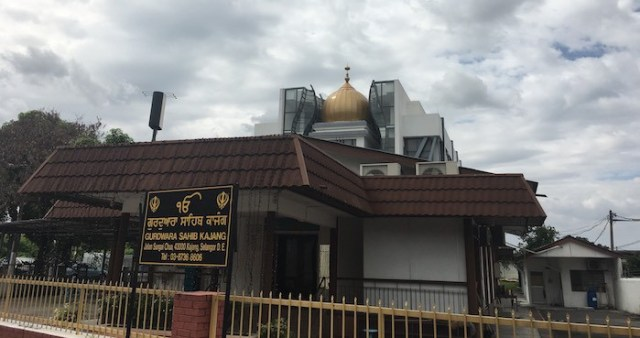Gurdwara: (24, 66, 509, 311)
